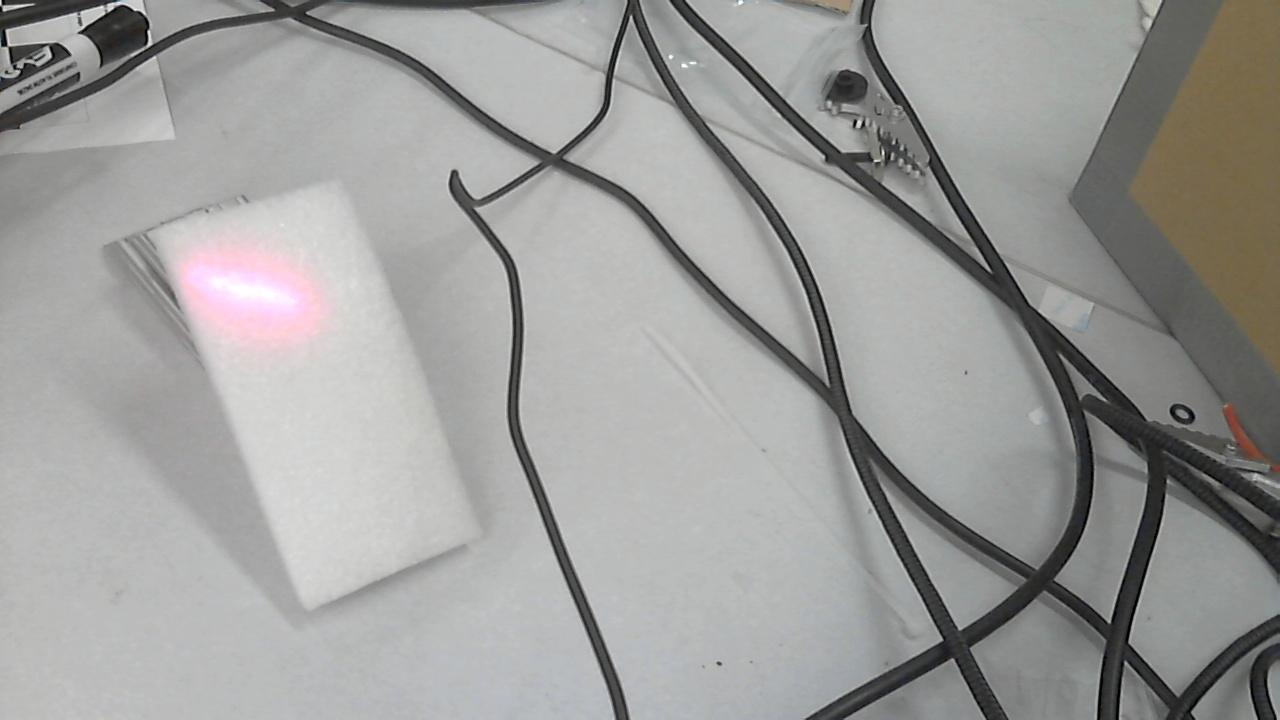Object white rectangular foam block - Material Foam - Color white - Pdfname LpbA: (154, 227, 347, 353)
